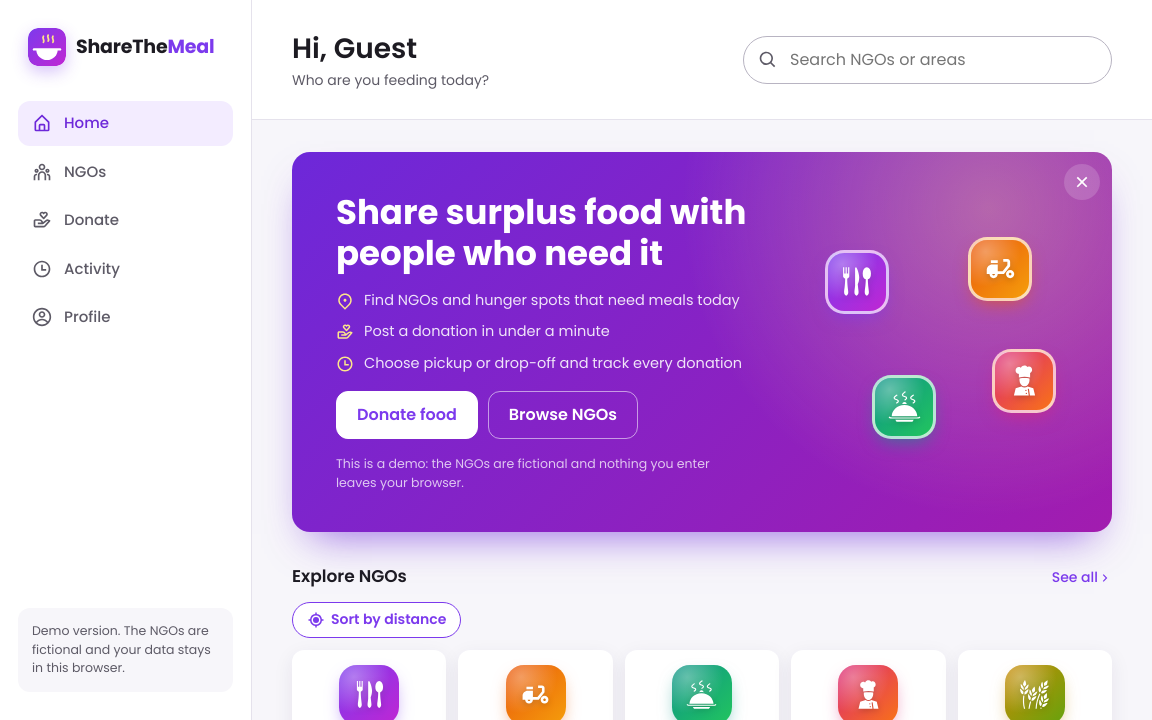
home › searches NGOs by name or area
The image size is (1152, 720).
Step 1. Type "aundh" into the search field labelled "Search NGOs" → (942, 60), box [788,36,1097,82]
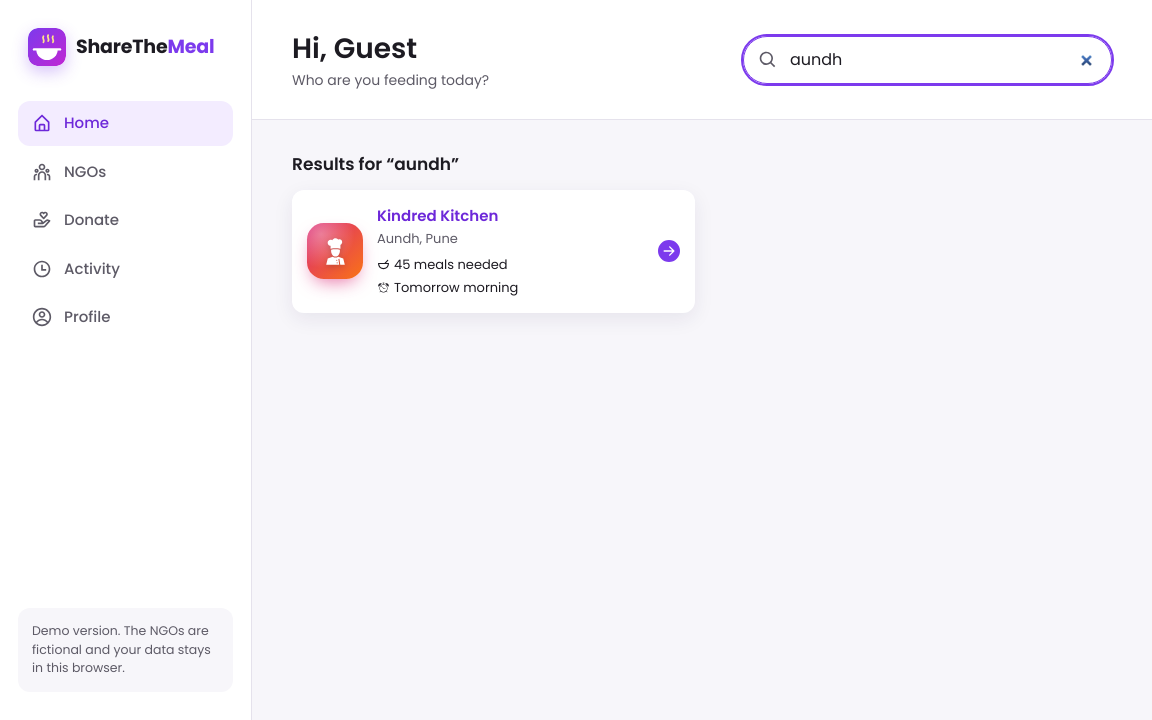
Check: the link "Kindred Kitchen Aundh, Pune 45 meals needed Tomorrow morning" is shown, box [292,190,695,312]
Step 2. Replace the text in the search field named "Search NGOs" with "zzz" → (942, 60), box [788,36,1097,82]
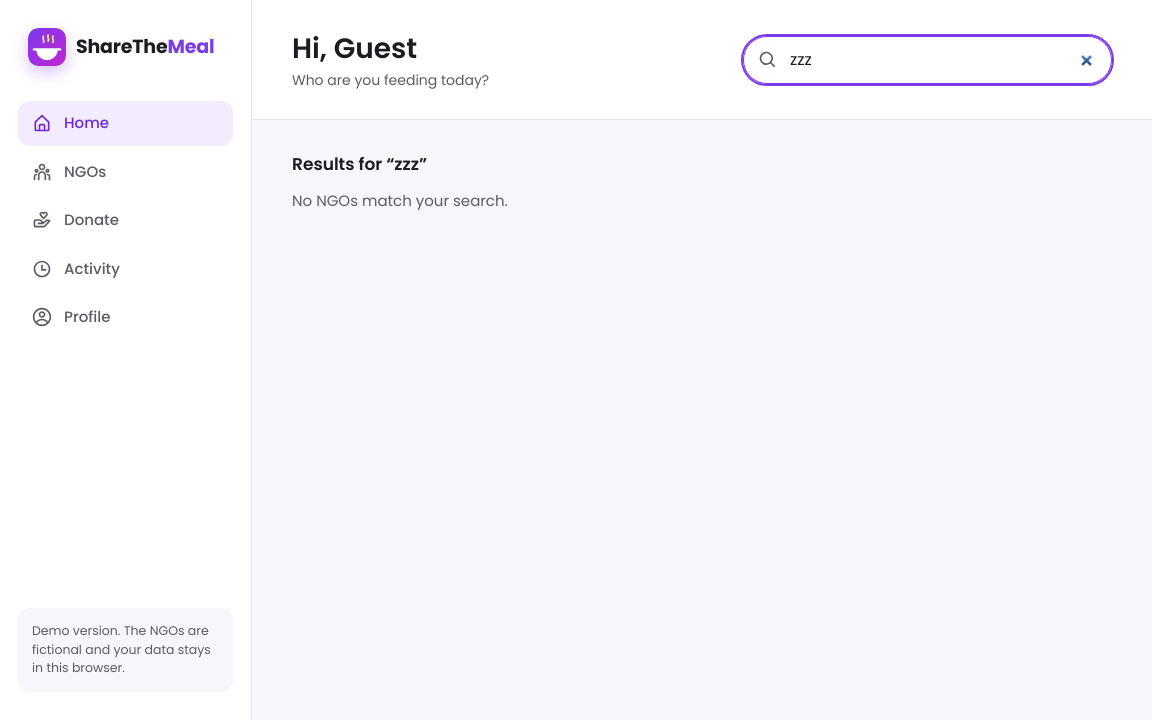
Check: the text "No NGOs match your search." is shown, box [292,190,508,210]
